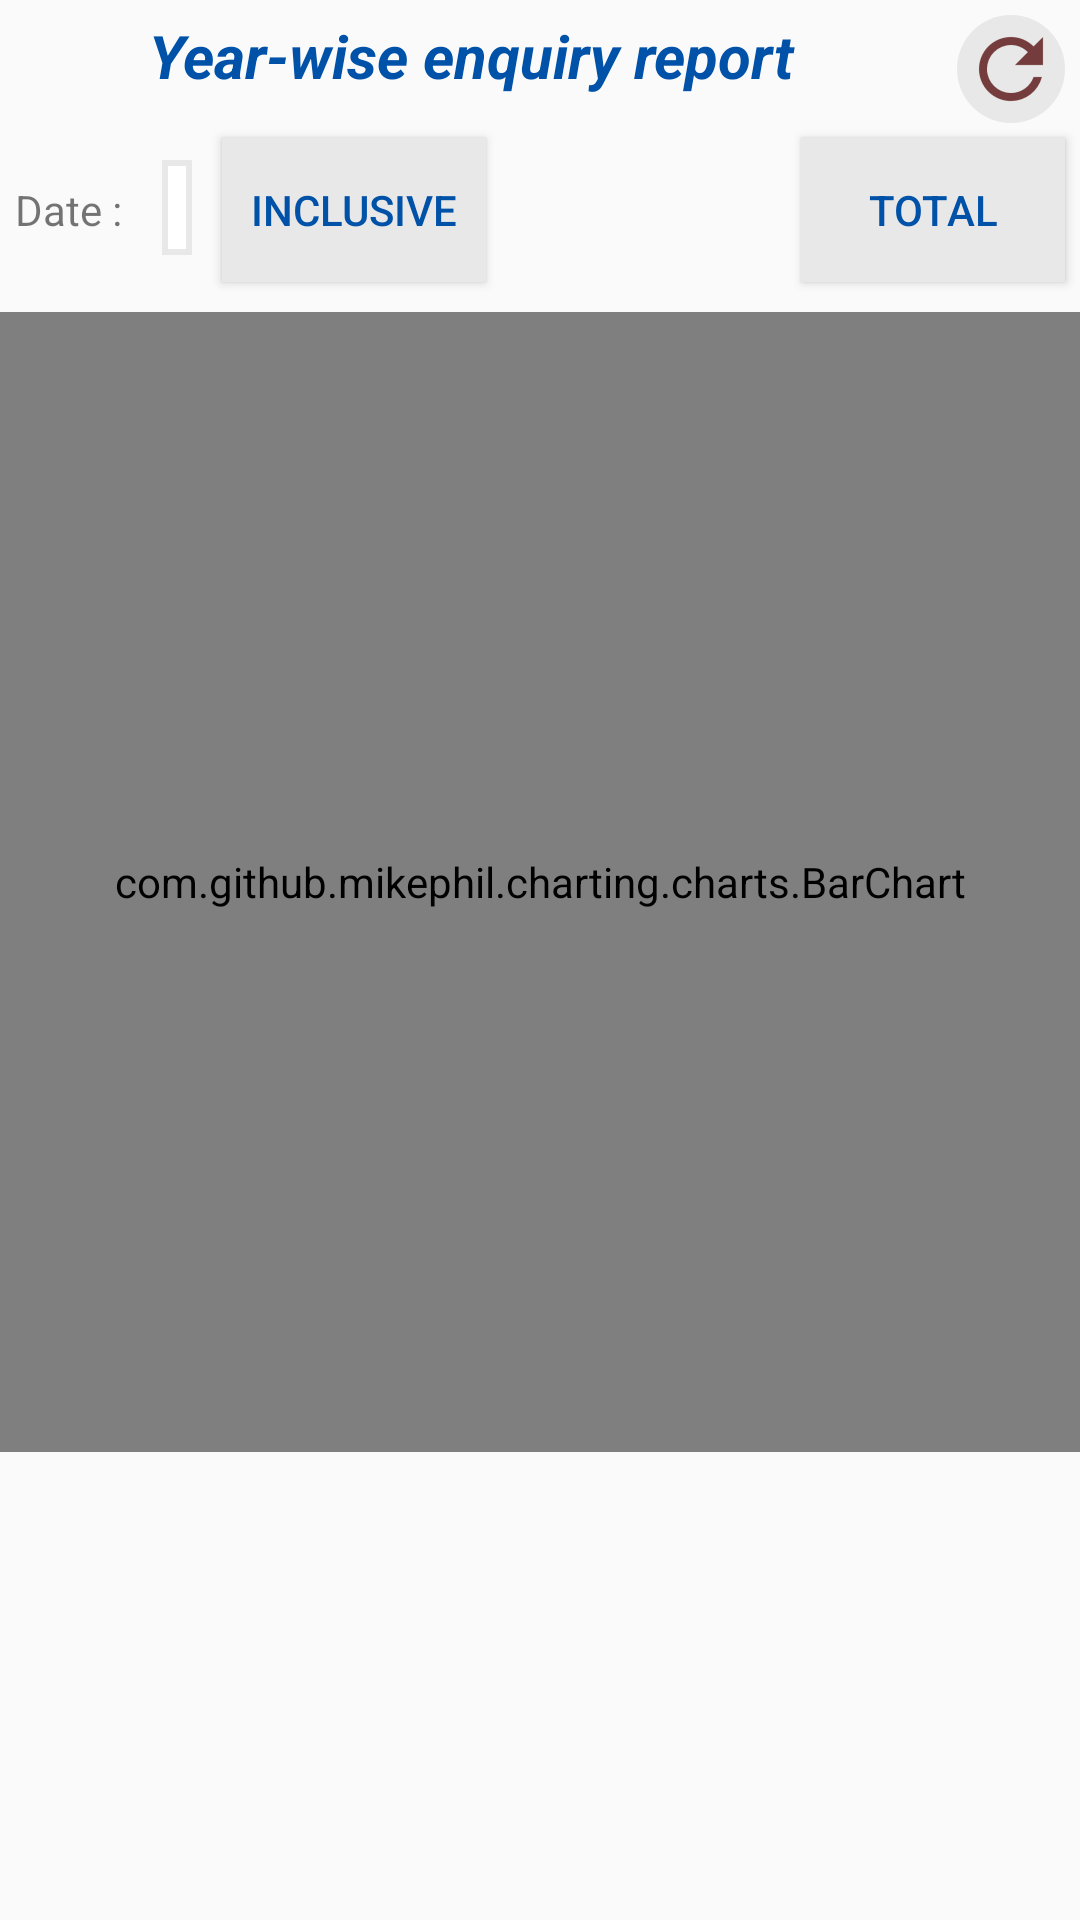

Where icons sit on this 1080w x 1920h app screen, as [x1, y1, x2, y2]:
refresh: [957, 15, 1065, 123]
